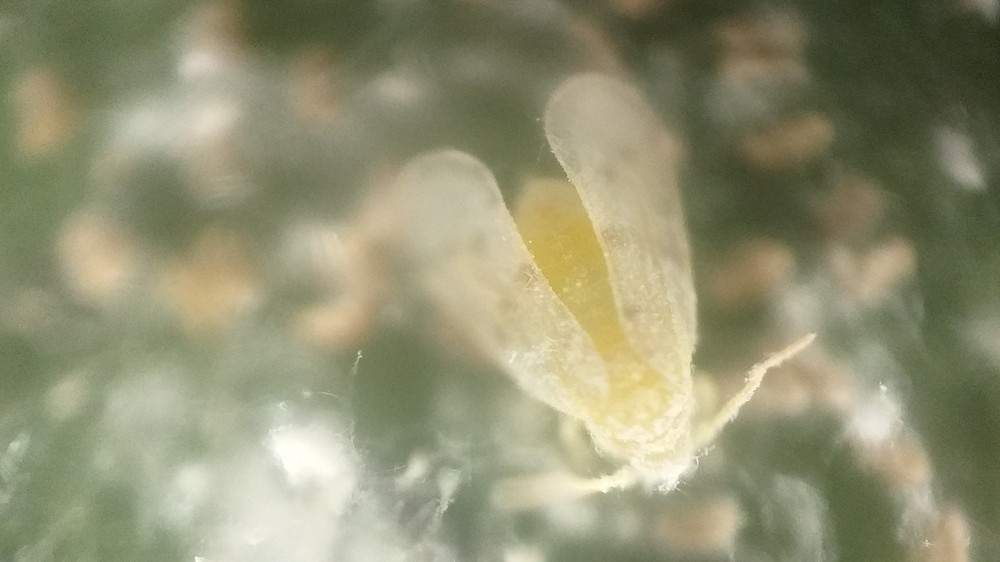Mosca Blanca: (364, 66, 819, 525)
